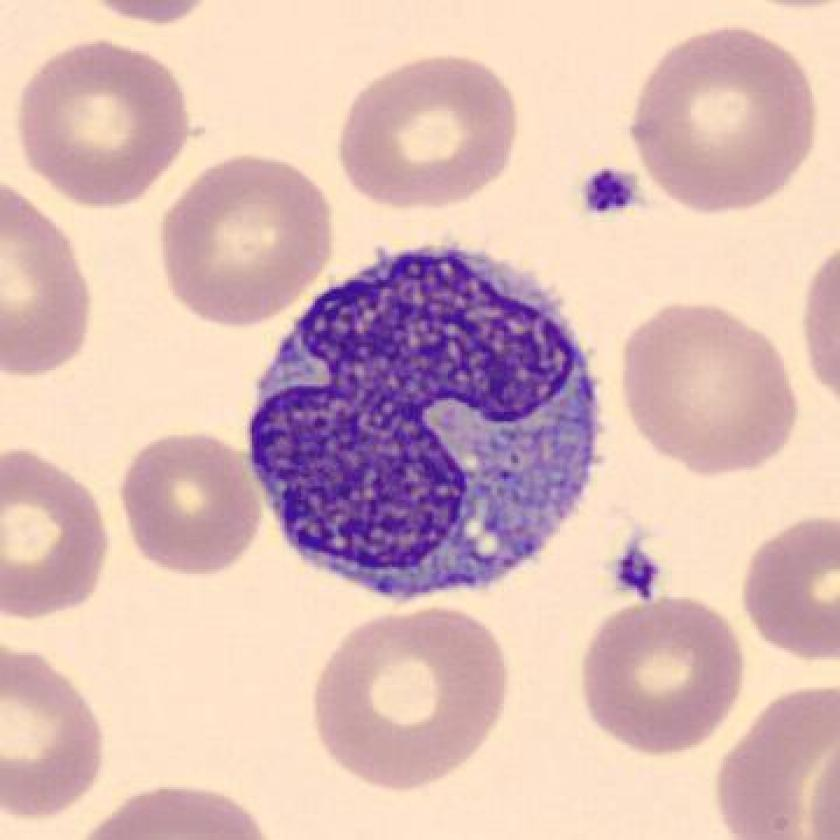monocyte: (228, 221, 627, 616)
